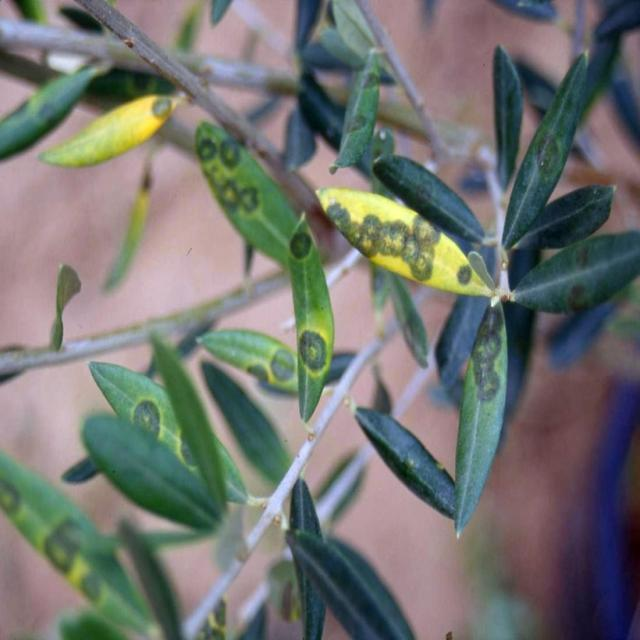Peacock Eye: (0, 452, 159, 635), (317, 187, 498, 304), (503, 51, 588, 242), (195, 121, 298, 266), (453, 302, 508, 532), (88, 361, 200, 473), (354, 407, 455, 519), (39, 93, 186, 167), (514, 232, 639, 313), (288, 218, 334, 422), (198, 329, 297, 394), (330, 49, 381, 173)
